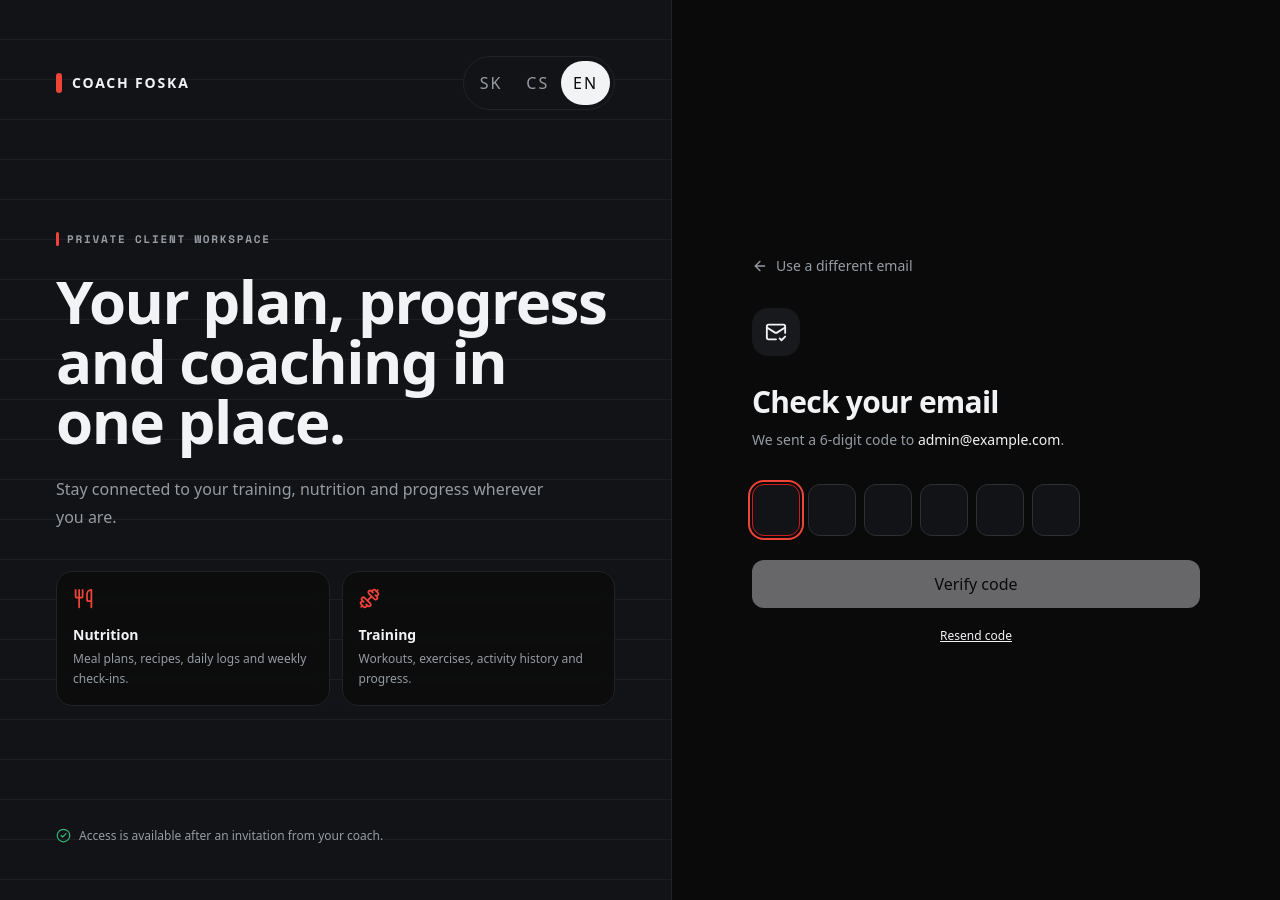
Test: Verify › shows error and clears loading when verifyOtp returns no user
The width and height of the screenshot is (1280, 900).
Type "1" into the 1st field. click: (776, 510)
box: [752,484,800,536]
Type "2" into the 2nd field. click: (832, 510)
box: [808,484,856,536]
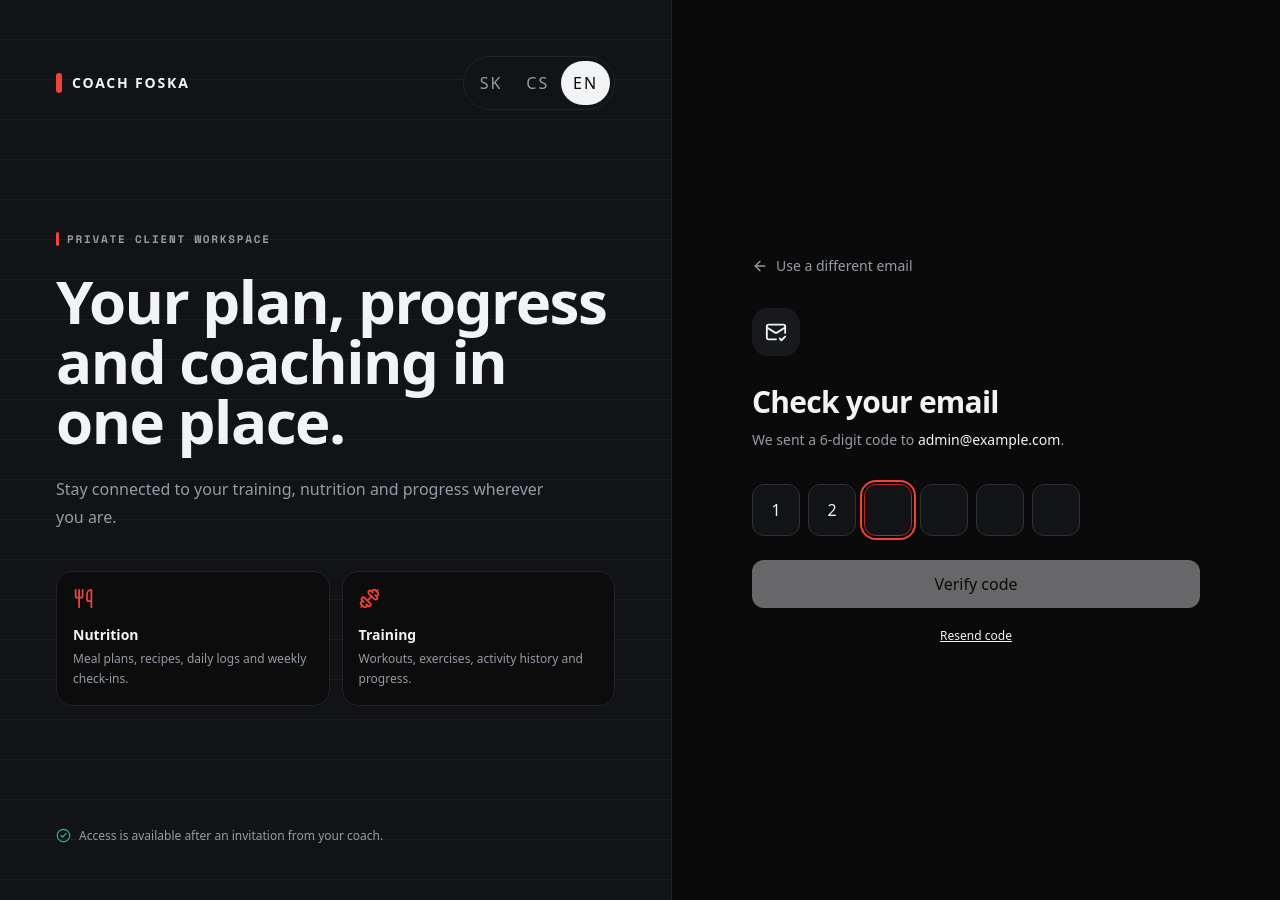
Type "3" into the 3rd field. click: (888, 510)
box: [864,484,912,536]
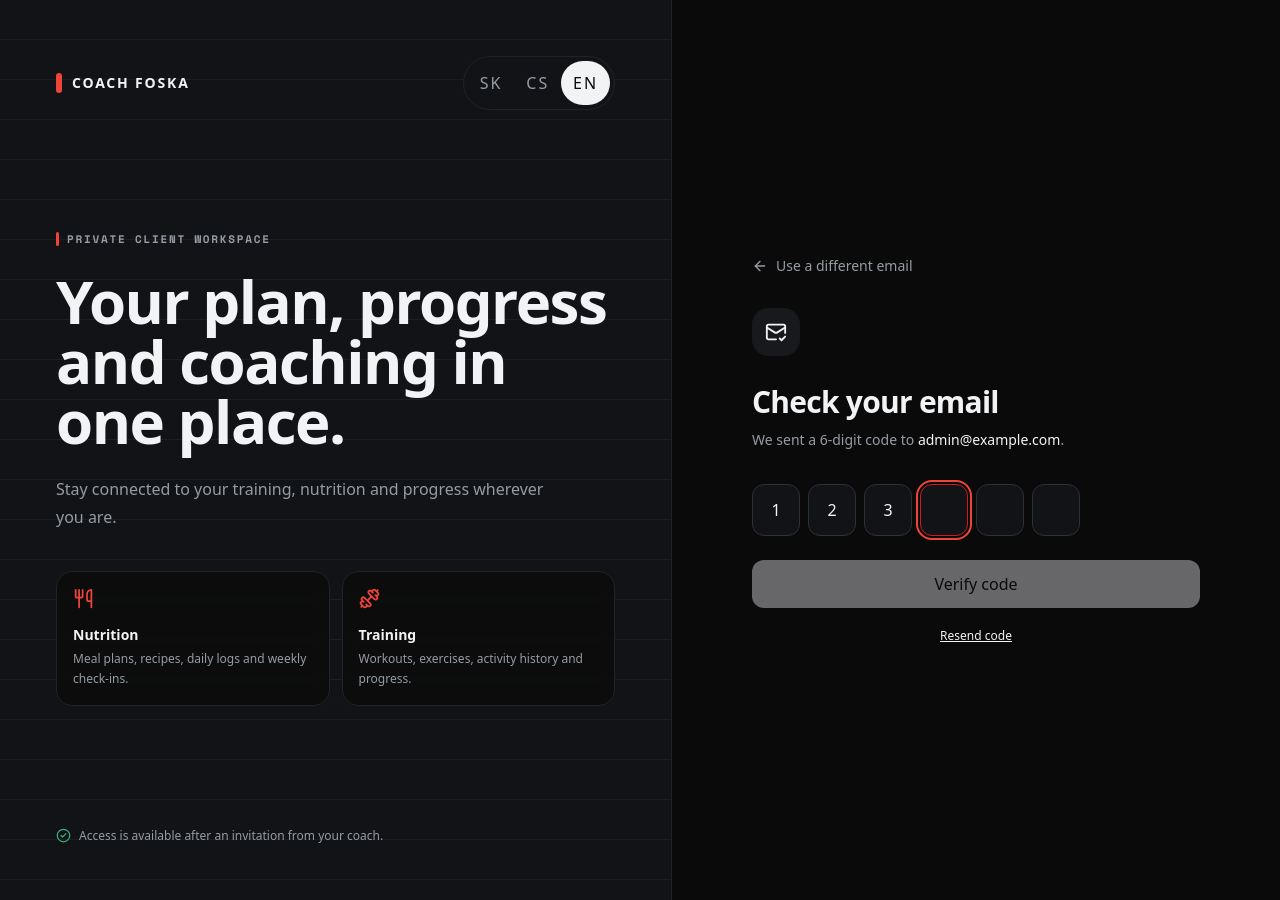
Type "4" into the 4th field. click: (944, 510)
box: [920,484,968,536]
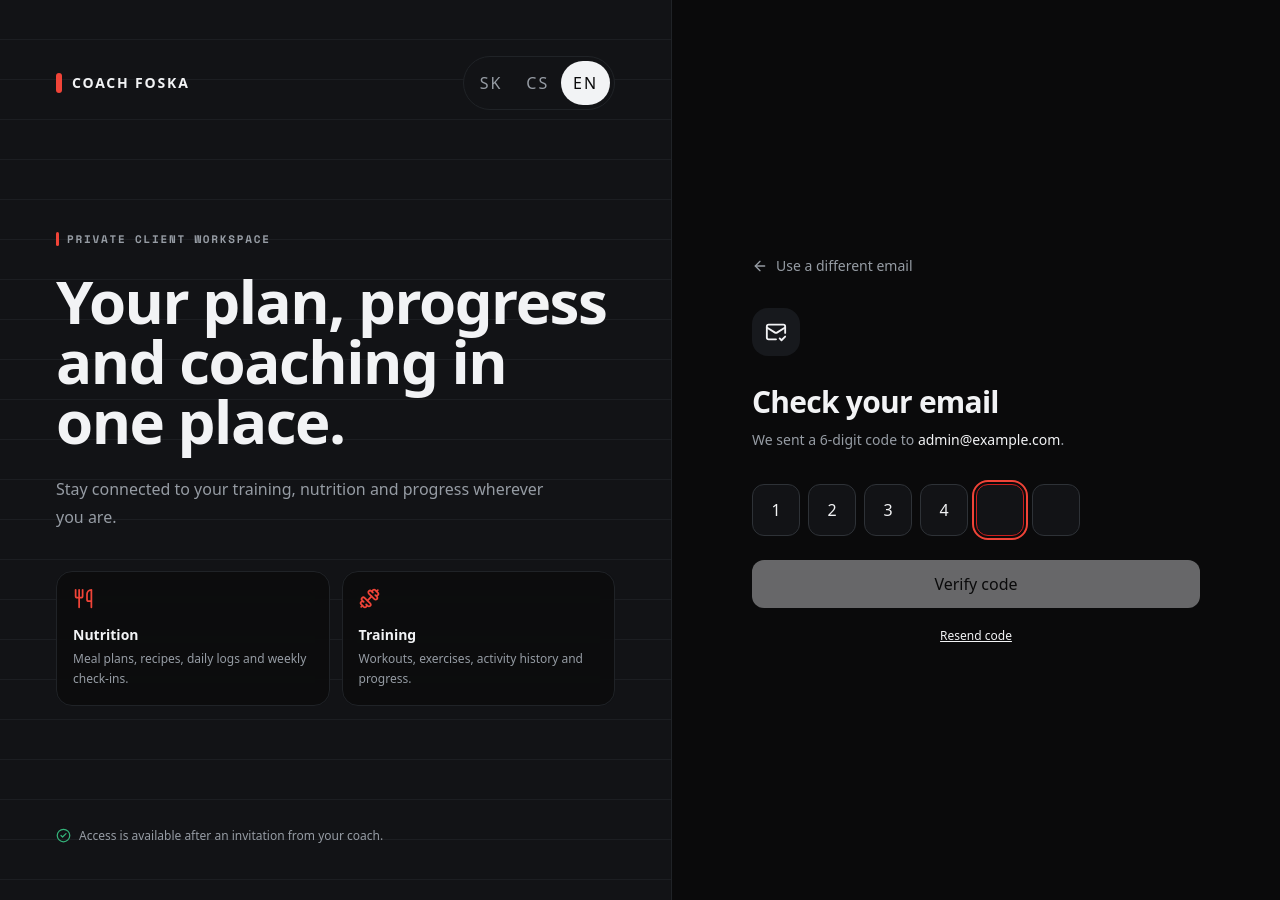
Type "5" into the 5th field. click: (1000, 510)
box: [976,484,1024,536]
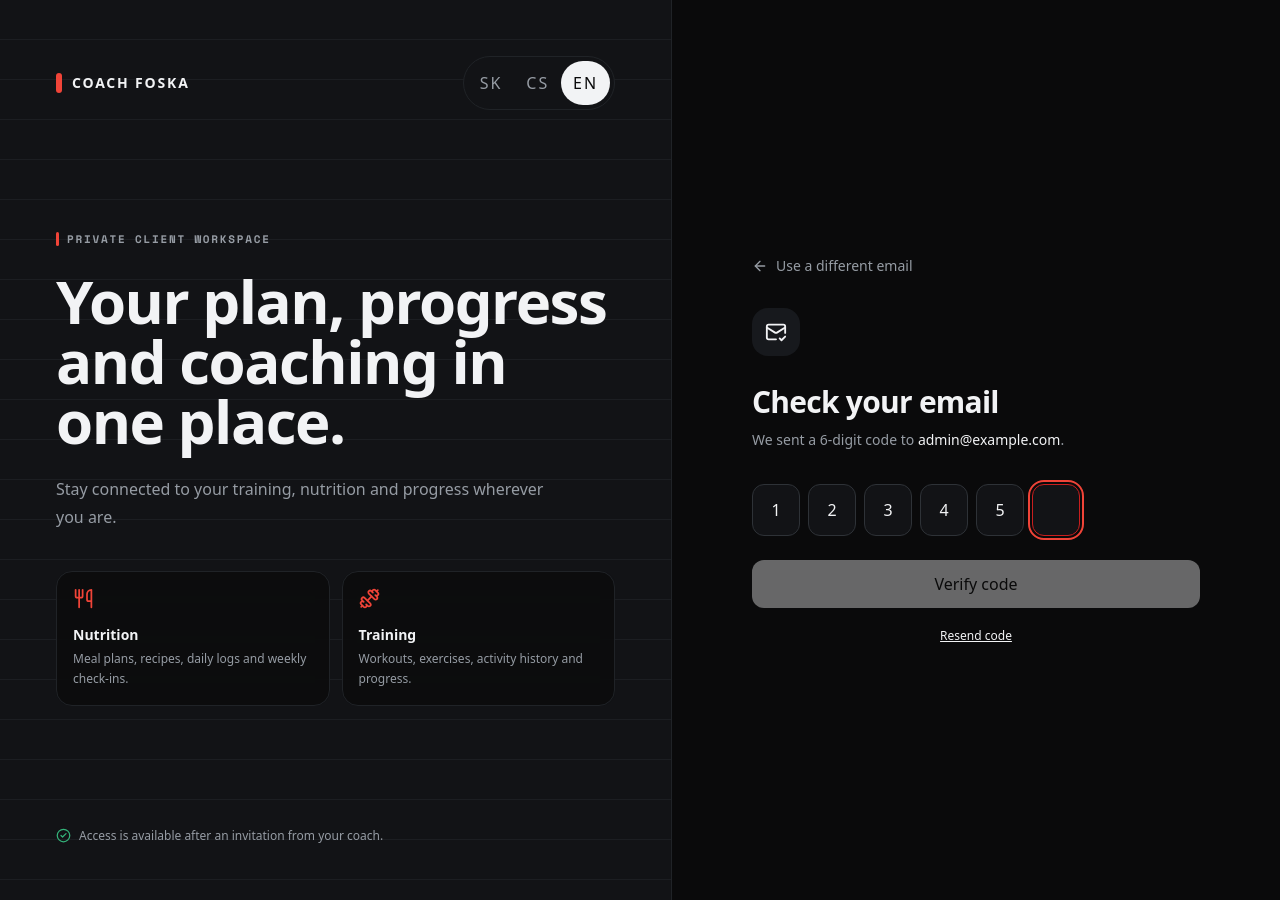
Type "6" into the 6th field. click: (1056, 510)
box: [1032,484,1080,536]
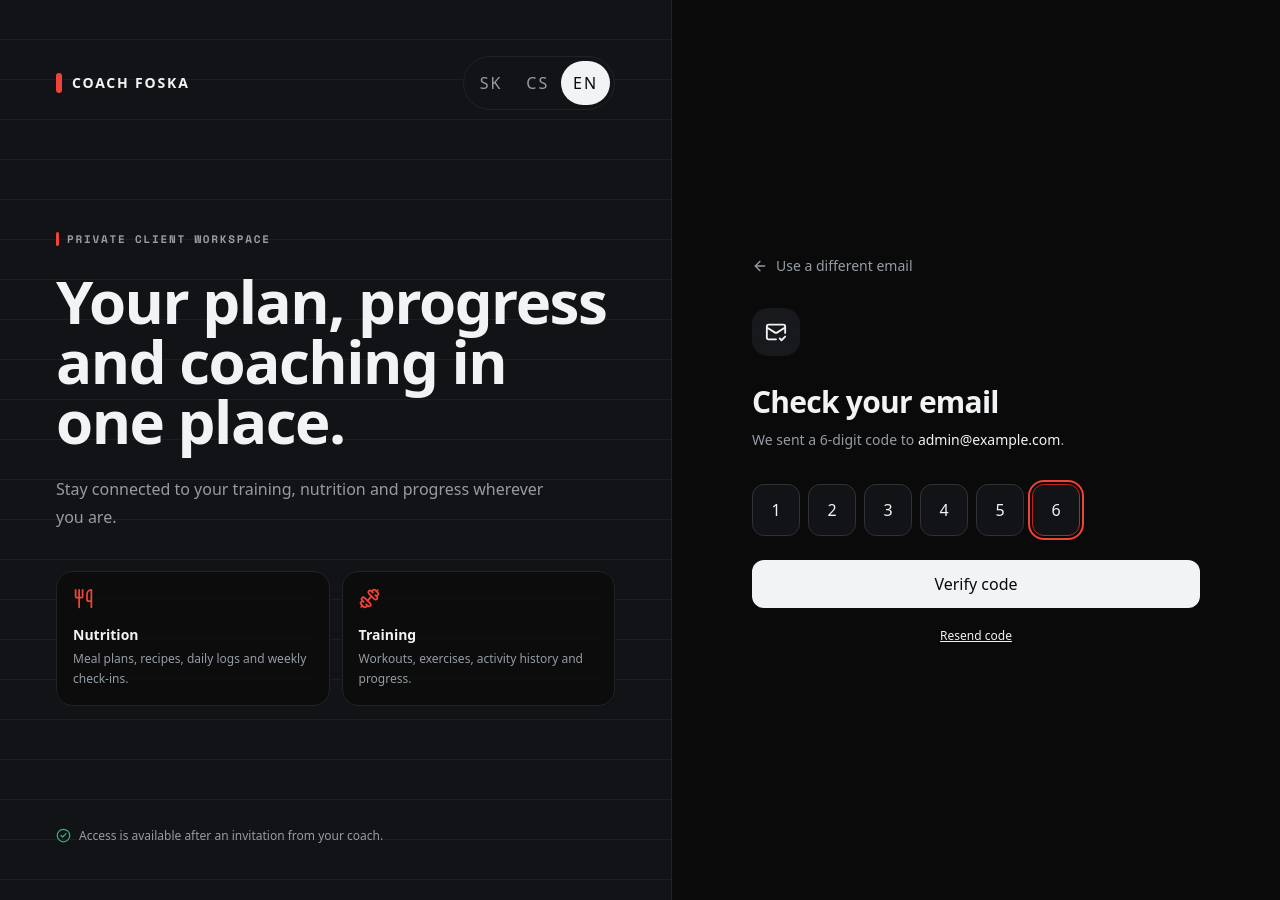
Click the button "Verify code". click: (976, 584)
box: [752,560,1200,608]
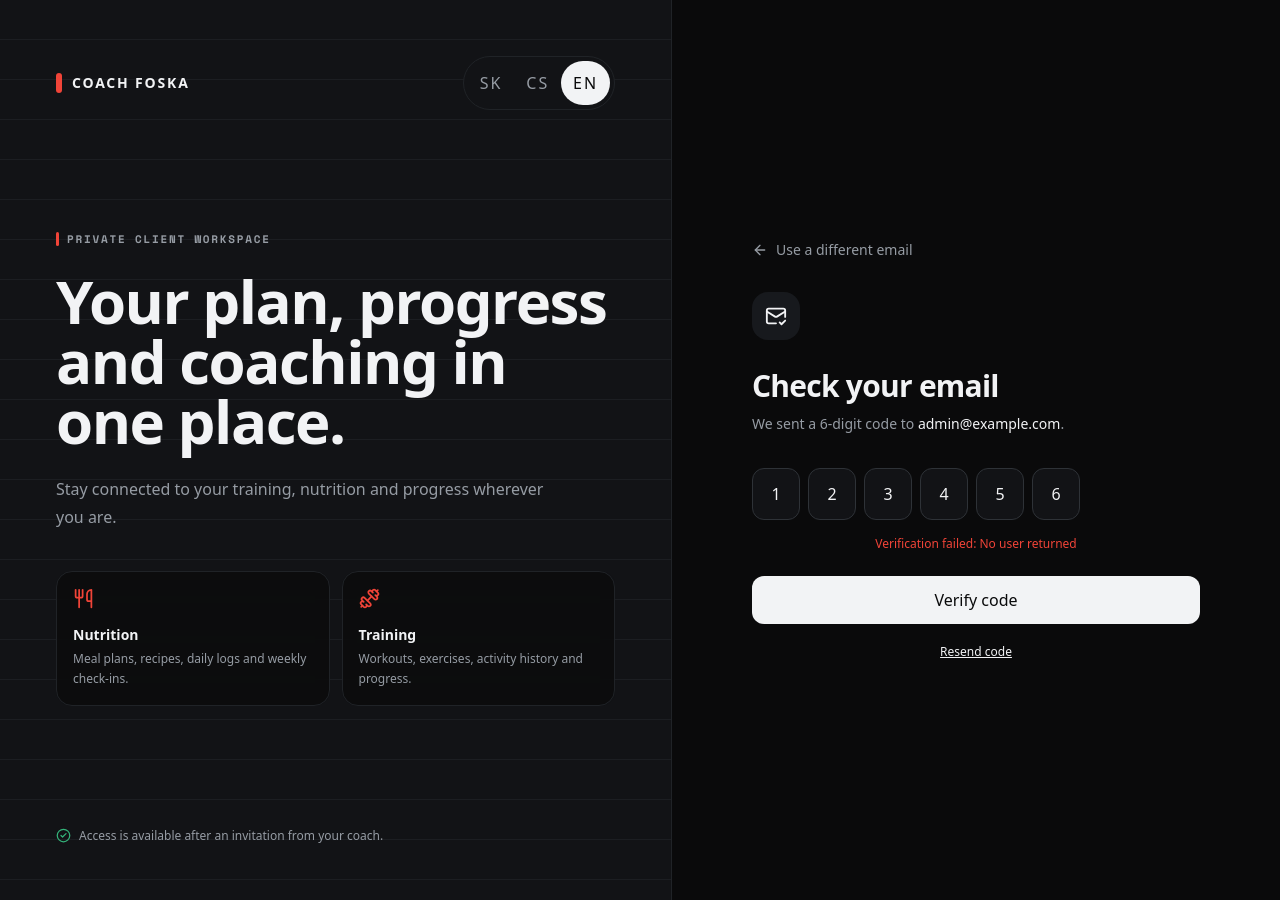
Check: the button "Verify code" is enabled, box [752,576,1200,624]
Check: the text "Verification failed: No user returned" is shown, box [875,535,1077,552]
